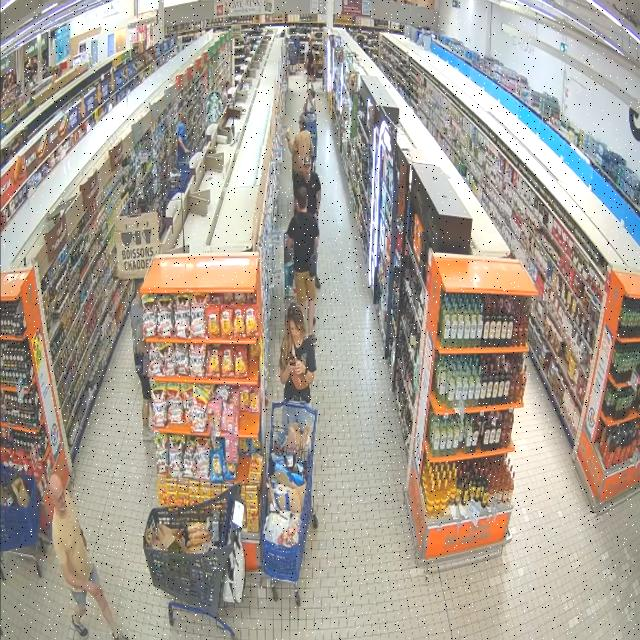article: (286, 127, 291, 136)
bags: (291, 371, 309, 390), (135, 353, 143, 375), (310, 253, 317, 277)
hands: (85, 581, 100, 597), (295, 361, 306, 375), (284, 363, 292, 374), (83, 534, 88, 550), (315, 210, 319, 221), (286, 131, 290, 141)
person: (49, 474, 127, 639), (287, 187, 319, 344), (280, 302, 316, 405), (130, 280, 152, 440), (286, 116, 313, 182), (294, 156, 321, 217), (177, 111, 190, 167), (303, 87, 316, 121)
